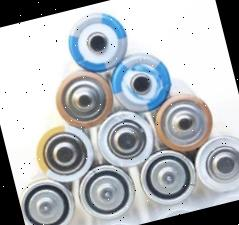electronic: (45, 58, 124, 138)
